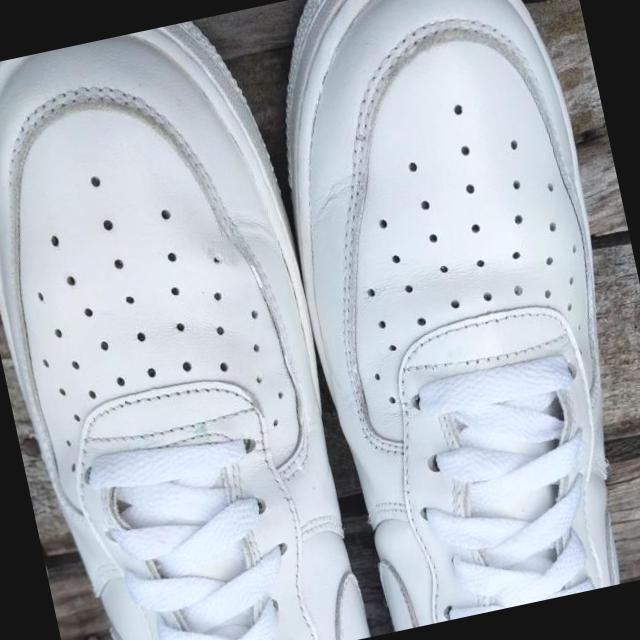nike_original_airforce: (236, 0, 640, 637), (0, 10, 373, 640)
